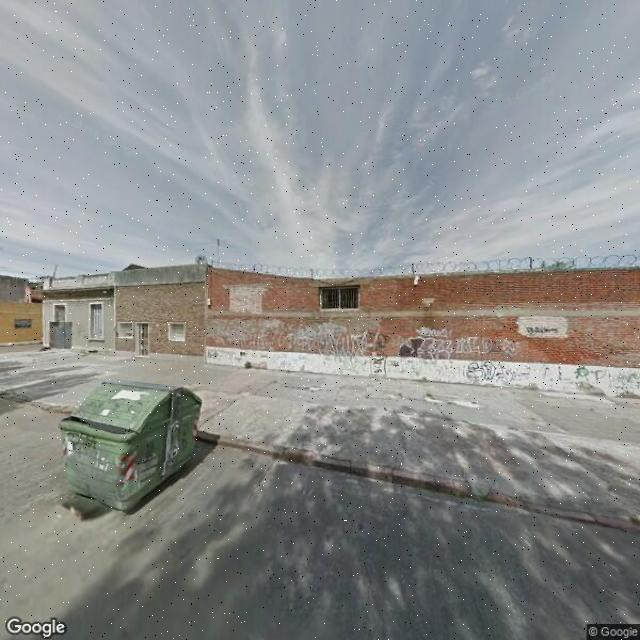garbage container: (50, 368, 231, 530)
